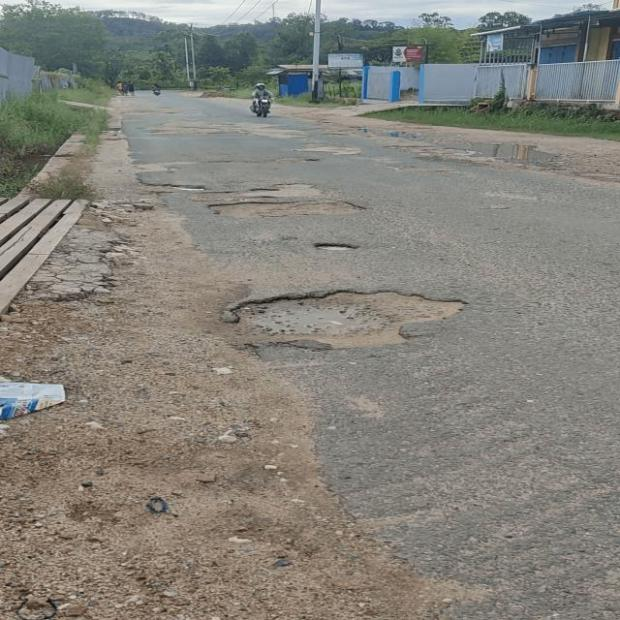lubang: (224, 291, 465, 356), (208, 201, 364, 217), (144, 184, 239, 202), (314, 243, 357, 249), (250, 188, 282, 196)
